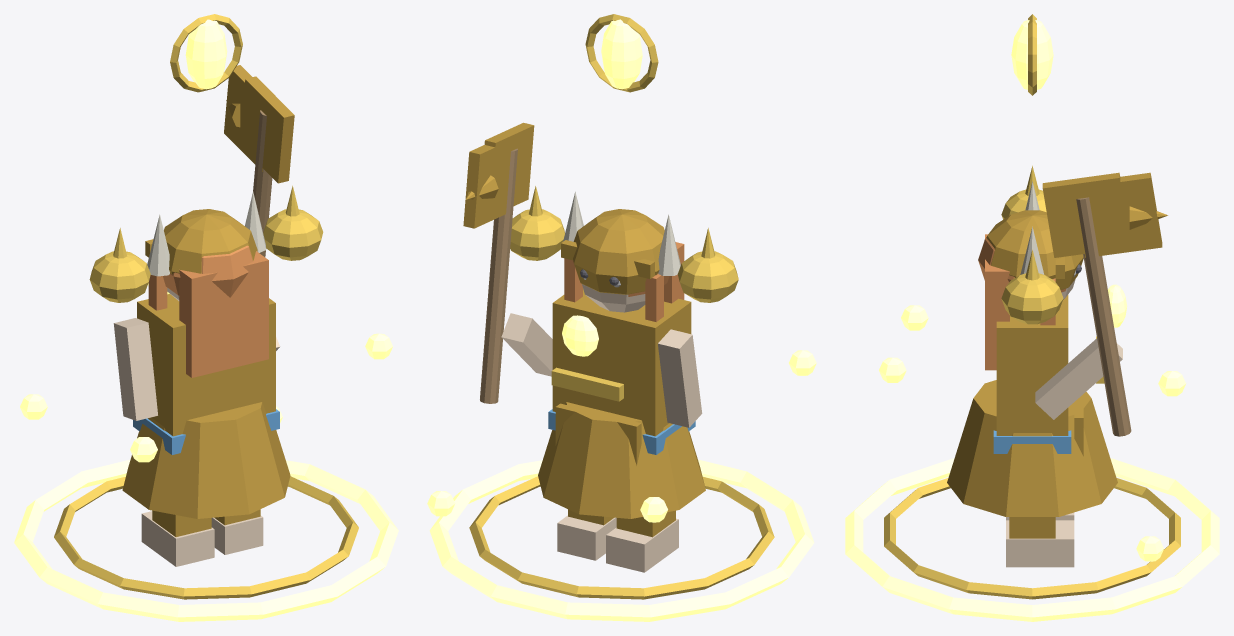
File: hero_valkyrie.glb
The picture shows the model from 3 angles, left to right: view 1: azimuth 30°, elevation 25°; view 2: azimuth 150°, elevation 25°; view 3: azimuth 270°, elevation 25°; orthographic projection.
Parts seen in each view (by area): view 1: hero_valkyrie; view 2: hero_valkyrie; view 3: hero_valkyrie.
Boxes of the visible parts, box(x1,y1,x2,y2) form: hero_valkyrie: box(14, 14, 398, 621); hero_valkyrie: box(427, 14, 816, 621); hero_valkyrie: box(845, 14, 1219, 621).
Bounding box in the file's own units: 2.77 × 4.2 × 2.7.
